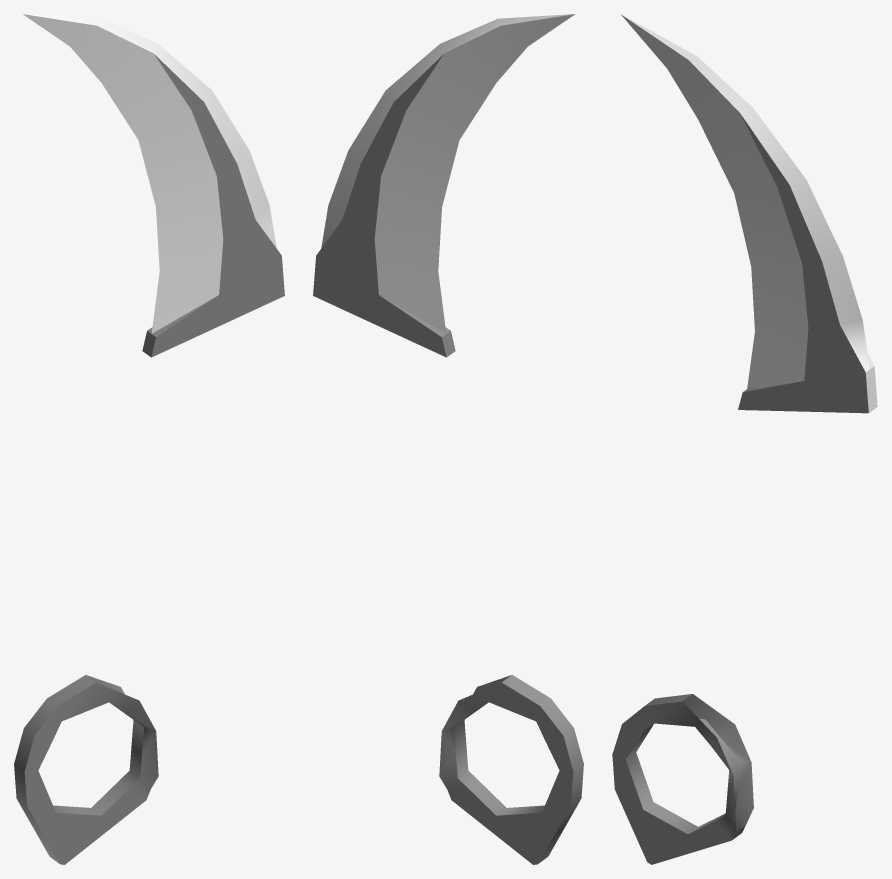
The model's file is karambit.fbx.
The picture shows the model from 3 angles, left to right: view 1: azimuth 30°, elevation 25°; view 2: azimuth 150°, elevation 25°; view 3: azimuth 330°, elevation 25°; orthographic projection. The views are drawn at different scales.
Visible parts, largest first — view 1: karambit9; view 2: karambit9; view 3: karambit9.
Part boxes in pixels (box(x1,y1,x2,y2)): karambit9: box(14, 14, 284, 864); karambit9: box(313, 14, 583, 864); karambit9: box(612, 14, 877, 864).
Bounding box in the file's own units: 1.24 × 3.88 × 0.1523.
1 material, 1 textured.
